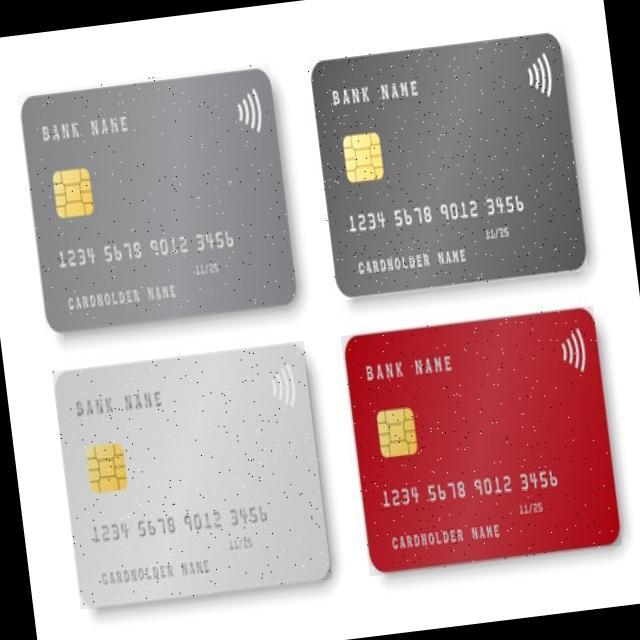payment_card: (51, 340, 331, 609), (340, 306, 621, 573), (311, 31, 588, 297), (22, 69, 297, 333)
